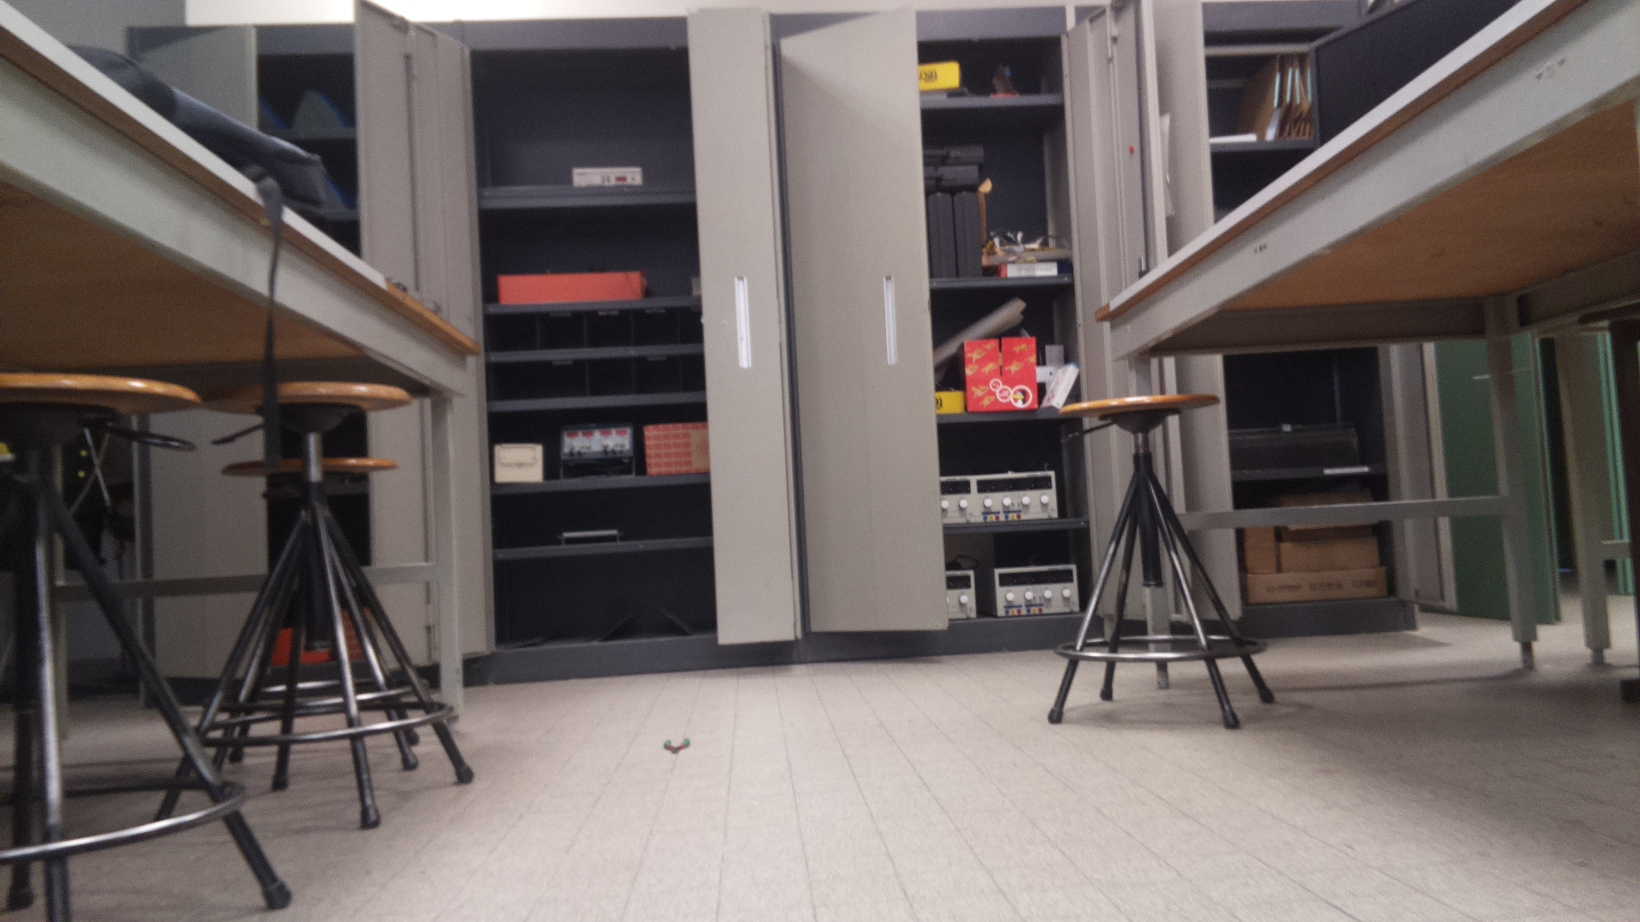small: (659, 734, 693, 757)
